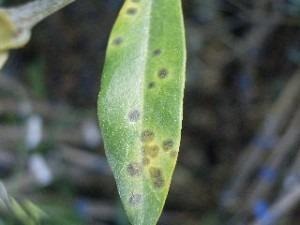OlivePeacockSpot: (95, 0, 186, 225)
